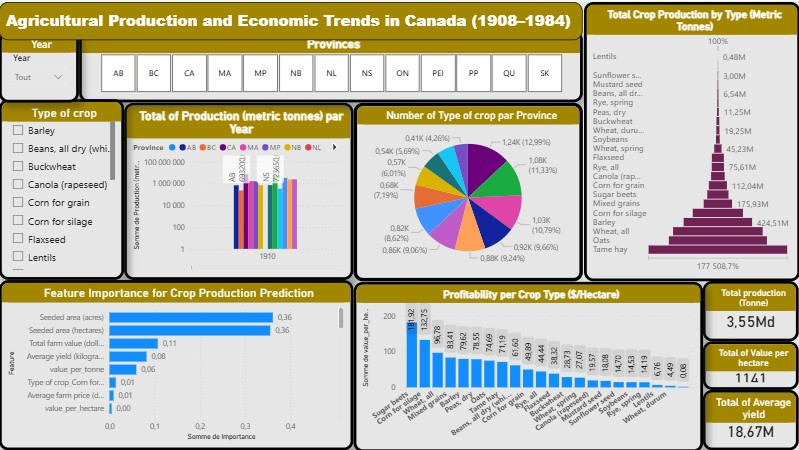

What the dashboard file says about the page in this screenshot:
{"tool":"powerbi","page":{"name":"Page 1","canvas":[1280,720],"ordinal":0},"visuals":[{"type":"lineClusteredColumnComboChart","title":"Total of Production (metric tonnes) par Year","fields":{"Category":["farm_production_dataset_clean.Year"],"Y":["Sum(farm_production_dataset_clean.Production (metric tonnes))"],"Series":["farm_production_dataset_clean.Province"]},"box":[200,161.1,366.7,283.3],"z":0},{"type":"slicer","title":"Provinces","fields":{"Values":["farm_production_dataset_clean.Province"]},"box":[127.8,46.3,805.6,114.8],"z":1000},{"type":"funnel","title":"Total Crop Production by Type (Metric Tonnes)","fields":{"Y":["Sum(farm_production_dataset_clean.Production (metric tonnes))"],"Category":["farm_production_dataset_clean.Type of crop"]},"box":[934.8,0,345.5,447],"z":3000},{"type":"slicer","title":"Type of crop","fields":{"Values":["farm_production_dataset_clean.Type of crop"]},"box":[0,156.1,200,289.4],"z":6000},{"type":"slicer","title":"Year","fields":{"Values":["farm_production_dataset_clean.Year"]},"box":[0,47,127.3,113.6],"z":7000},{"type":"card","title":"Total production (Tonne)","fields":{"Values":["Sum(farm_production_dataset_clean.Production (metric tonnes))"]},"box":[1125.9,446.3,153.7,96.3],"z":8000},{"type":"card","title":"Total of Value per hectare","fields":{"Values":["Sum(farm_production_dataset_clean.value_per_hectare)"]},"box":[1125.9,542.6,153.7,77.8],"z":9000},{"type":"card","title":"Total of Average yield","fields":{"Values":["Sum(farm_production_dataset_clean.Average yield (kilograms per hectare))"]},"box":[1125.9,620.4,153.7,96.3],"z":10000},{"type":"textbox","box":[0,0,933.3,60.6],"z":11000},{"type":"clusteredBarChart","title":"Feature Importance for Crop Production Prediction","fields":{"Y":["Sum(feature_importances.Importance)"],"Category":["feature_importances.Feature"]},"box":[0,444.4,566.7,272.2],"z":12000},{"type":"clusteredColumnChart","title":"Profitability per Crop Type ($/Hectare)","fields":{"Category":["farm_production_dataset_clean.Type of crop"],"Y":["Sum(farm_production_dataset_clean.value_per_hectare)"]},"box":[566.7,448.1,559.3,272.2],"z":13000},{"type":"pieChart","title":"Number of Type of crop par Province","fields":{"Category":["farm_production_dataset_clean.Province"],"Y":["CountNonNull(farm_production_dataset_clean.Type of crop)"]},"box":[566.7,161.1,366.7,285.2],"z":13001}]}

Visuals, with their boxes in screenshot pixels (x1, y1, x2, y2), scaled from the page's 1280x720 canvas onto the 799x450 screenshot:
"Total of Production (metric tonnes) par Year" lineClusteredColumnComboChart: l=125, t=101, r=354, b=278
"Provinces" slicer: l=80, t=29, r=583, b=101
"Total Crop Production by Type (Metric Tonnes)" funnel: l=584, t=0, r=798, b=279
"Type of crop" slicer: l=0, t=98, r=125, b=278
"Year" slicer: l=0, t=29, r=79, b=100
"Total production (Tonne)" card: l=703, t=279, r=798, b=339
"Total of Value per hectare" card: l=703, t=339, r=798, b=388
"Total of Average yield" card: l=703, t=388, r=798, b=448
textbox: l=0, t=0, r=583, b=38
"Feature Importance for Crop Production Prediction" clusteredBarChart: l=0, t=278, r=354, b=448
"Profitability per Crop Type ($/Hectare)" clusteredColumnChart: l=354, t=280, r=703, b=449
"Number of Type of crop par Province" pieChart: l=354, t=101, r=583, b=279
